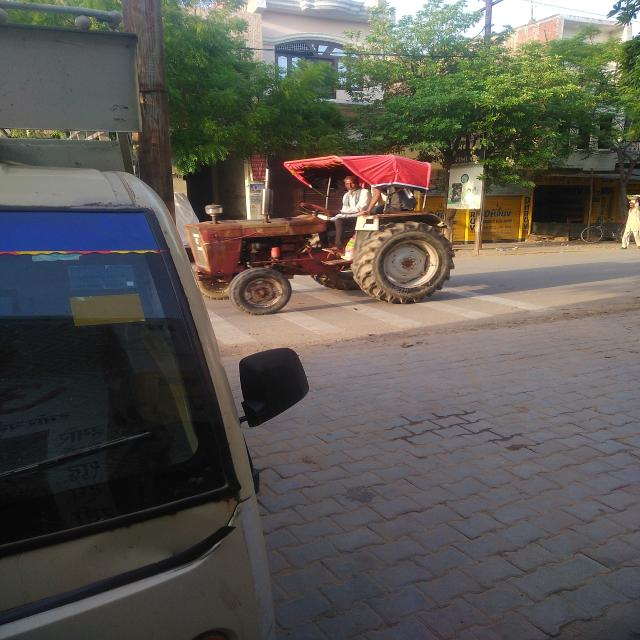tempo: (0, 11, 271, 640)
tractor: (186, 135, 492, 319)
